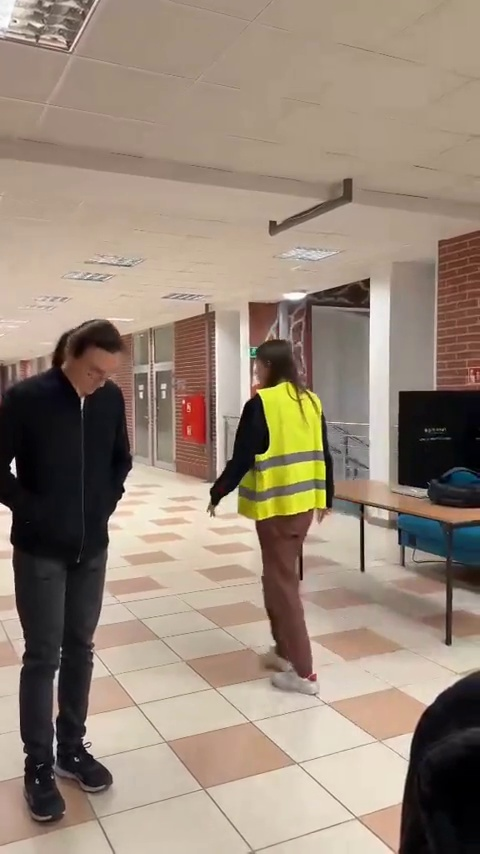no vest: (2, 310, 127, 824)
vest: (217, 335, 351, 688)
